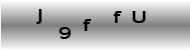9: (56, 26, 71, 40)
J: (34, 8, 44, 26)
U: (130, 10, 148, 24)
f: (112, 10, 124, 25), (81, 18, 92, 32)
